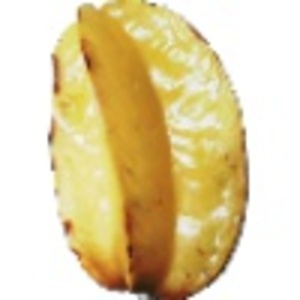carambola: (48, 1, 251, 300)
